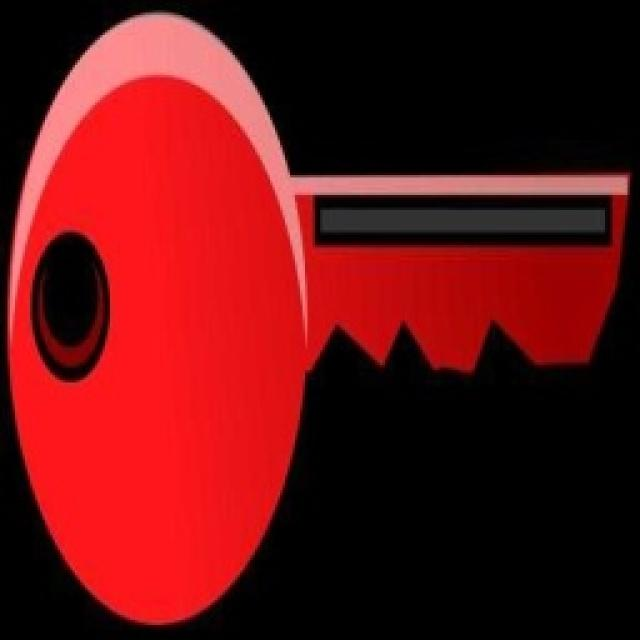anahtar: (11, 7, 631, 633)
